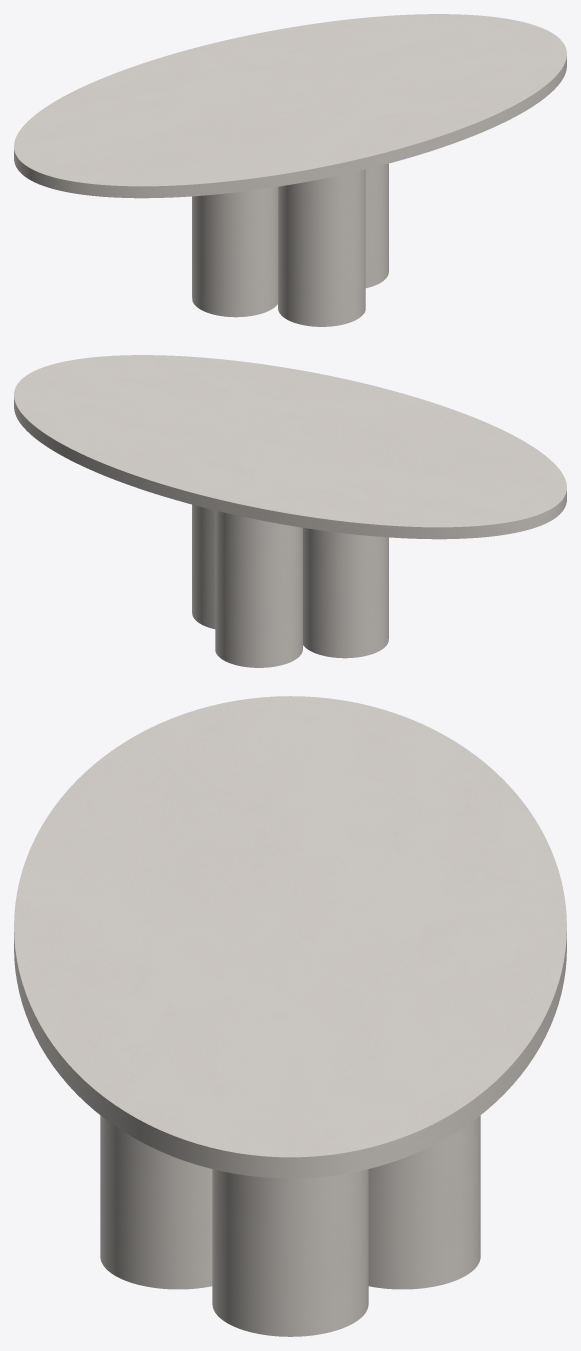
Rendered from pearlwhite_ellips_standard_secondtable.glb.
3 views of the same model, one above another, from view 1: azimuth 30°, elevation 25°; view 2: azimuth 150°, elevation 25°; view 3: azimuth 270°, elevation 25° (orthographic). The views are drawn at different scales.
Parts seen in each view (by area): view 1: standard_ellips, secondtable; view 2: standard_ellips, secondtable; view 3: standard_ellips, secondtable.
Part boxes in pixels (bbox=[...]): standard_ellips: bbox=[14, 14, 566, 198]; secondtable: bbox=[192, 163, 388, 326]; standard_ellips: bbox=[14, 355, 566, 539]; secondtable: bbox=[192, 504, 388, 667]; standard_ellips: bbox=[14, 696, 566, 1178]; secondtable: bbox=[100, 1115, 480, 1336].
Bounding box in the file's own units: 7.5 × 2.5 × 3.8.
1 material, 1 textured.
